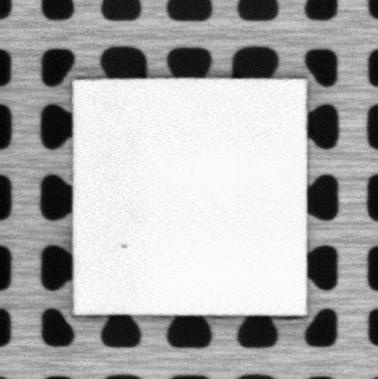DIE_INK: (119, 241, 130, 250)
